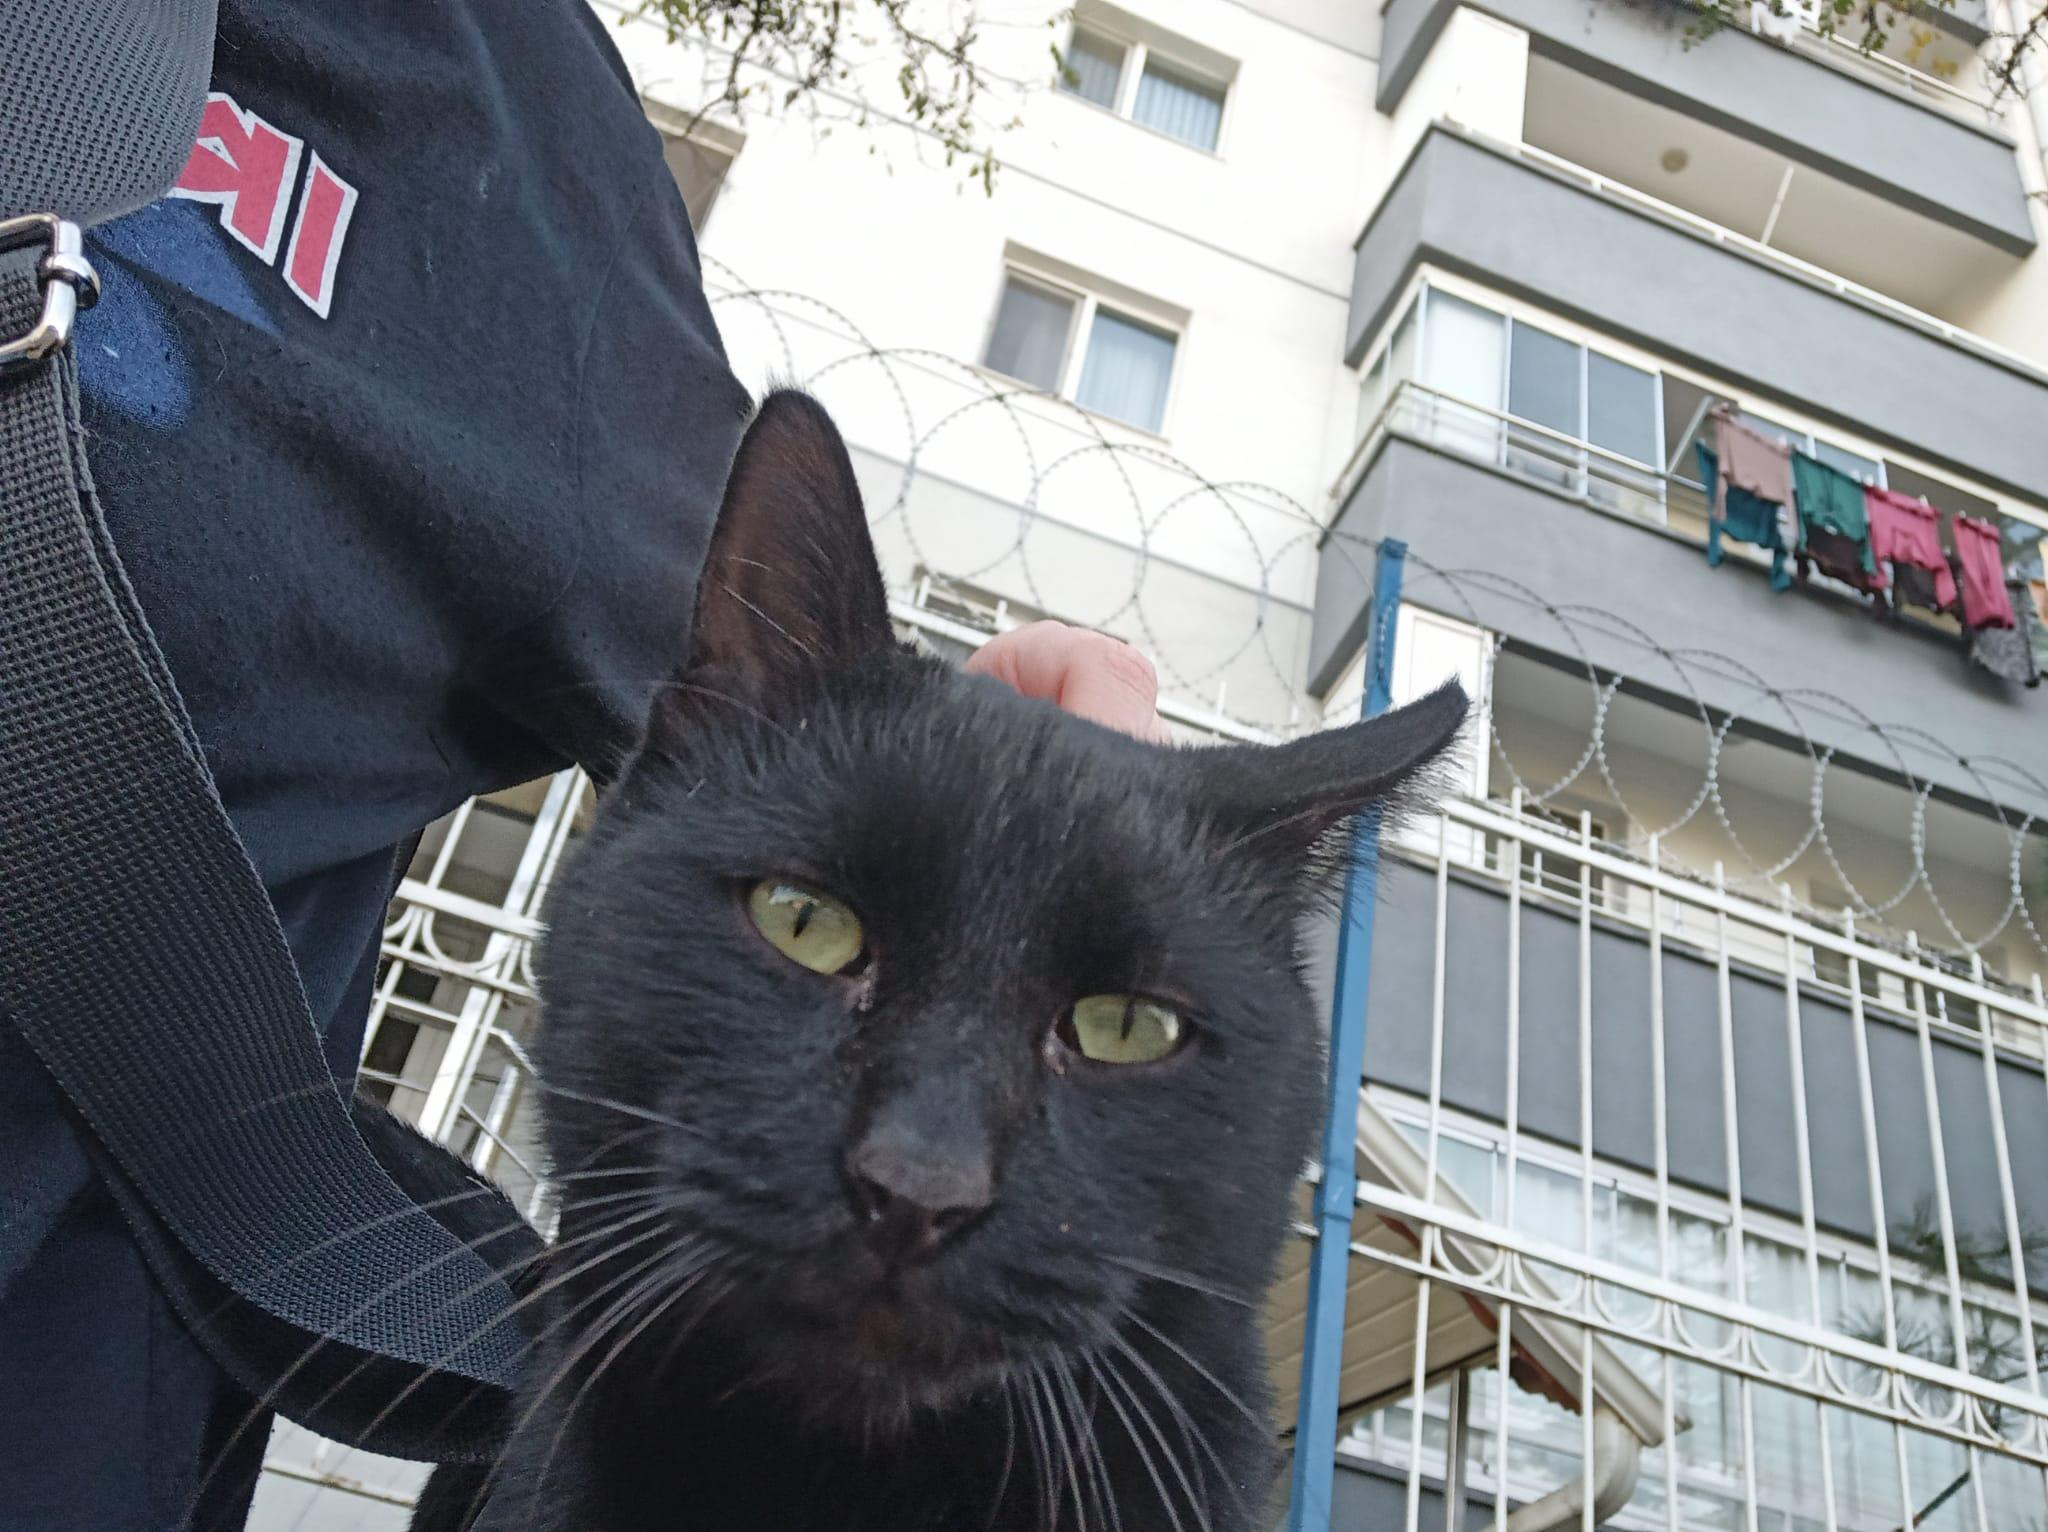kedo: (534, 370, 1461, 1527)
